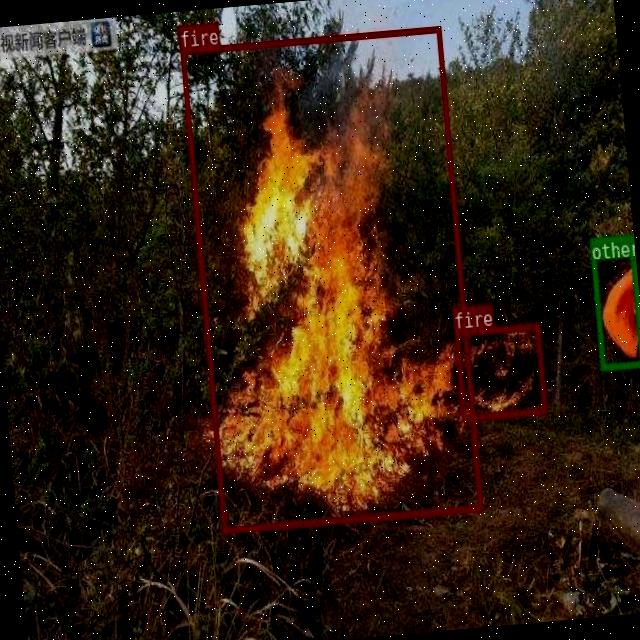fire: (178, 25, 482, 532), (452, 322, 546, 419)
